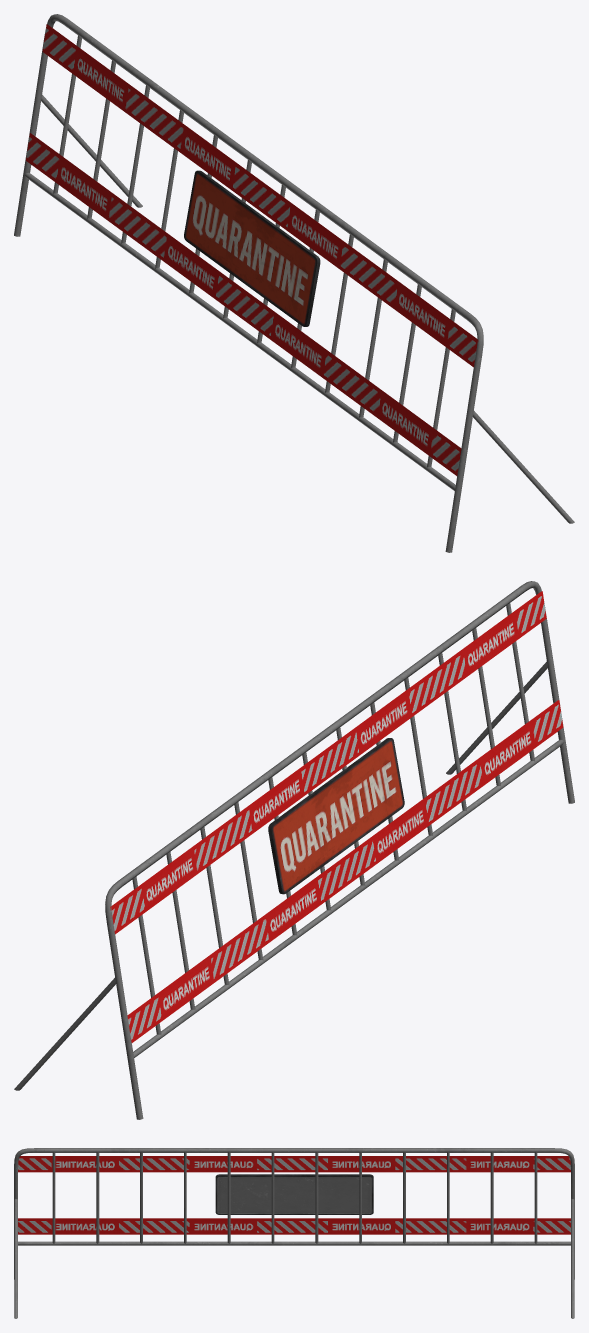
Rendered from HH_Quarantine_Barrier_4m.fbx.
3 views of the same model, one above another, from view 1: azimuth 30°, elevation 25°; view 2: azimuth 150°, elevation 25°; view 3: azimuth 270°, elevation 25° (orthographic). The views are drawn at different scales.
Parts seen in each view (by area): view 1: HH_Quarantine_Barrier_4m_LOD0; view 2: HH_Quarantine_Barrier_4m_LOD0; view 3: HH_Quarantine_Barrier_4m_LOD0.
Boxes of the visible parts, left/top/right/bottom form: HH_Quarantine_Barrier_4m_LOD0: left=14, top=14, right=574, bottom=552; HH_Quarantine_Barrier_4m_LOD0: left=14, top=581, right=574, bottom=1119; HH_Quarantine_Barrier_4m_LOD0: left=14, top=1148, right=574, bottom=1318.
Size of what is drawn, in the model's own units: 68.74 by 112 by 403.
